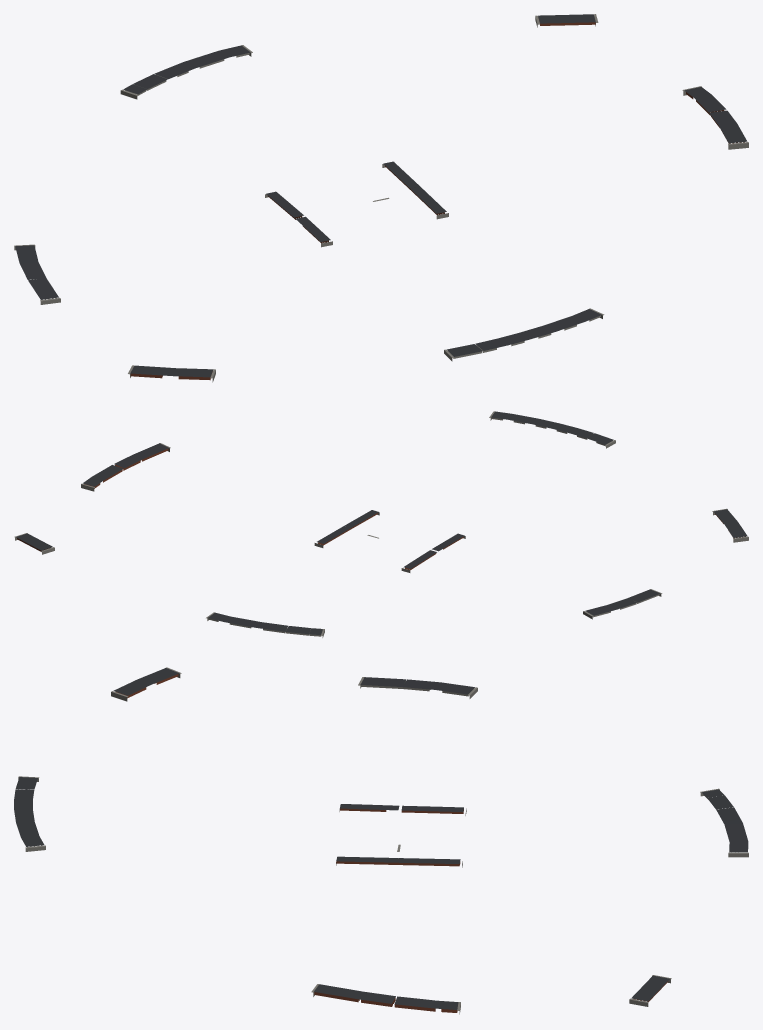
The model's file is br_h39_henday_yellowhead_2_lod2.gltf.
3 renders of one model, top to bottom at view 1: azimuth 30°, elevation 25°; view 2: azimuth 150°, elevation 25°; view 3: azimuth 270°, elevation 25°, orthographic. The views are drawn at different scales.
Visible parts, largest first — view 1: br_h39_henday_yellowhead_2_lod2; view 2: br_h39_henday_yellowhead_2_lod2; view 3: br_h39_henday_yellowhead_2_lod2.
Boxes of the visible parts, left/top/right/bottom form: br_h39_henday_yellowhead_2_lod2: left=14, top=14, right=748, bottom=382; br_h39_henday_yellowhead_2_lod2: left=14, top=411, right=748, bottom=637; br_h39_henday_yellowhead_2_lod2: left=14, top=667, right=748, bottom=1014.
Size of the model in its own units: 602 by 16.43 by 541.
